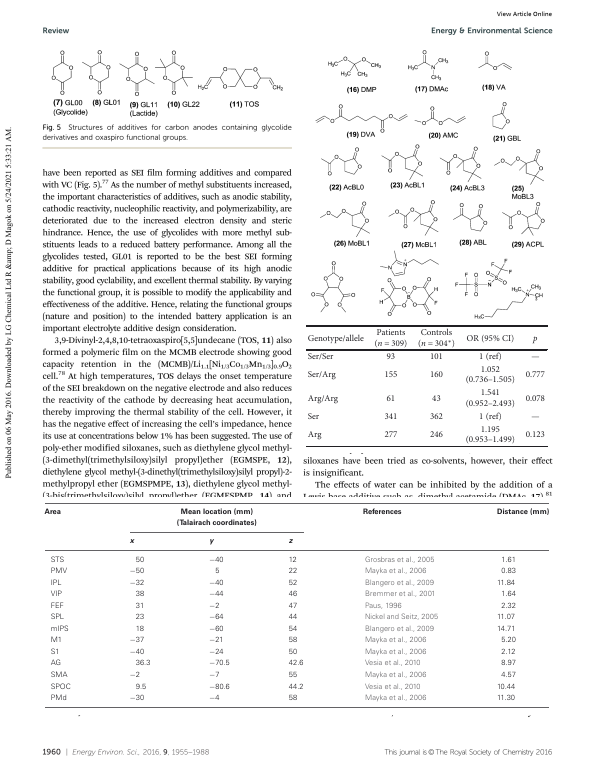borderless: (44, 502, 549, 707), (306, 324, 548, 447)
cell: (176, 508, 258, 528), (464, 365, 515, 386), (464, 388, 515, 409), (464, 425, 515, 446), (417, 328, 456, 349), (373, 328, 408, 349), (364, 613, 439, 622), (364, 591, 436, 600), (364, 556, 435, 565), (364, 579, 435, 588), (364, 625, 435, 634), (306, 333, 364, 344), (364, 648, 427, 657), (364, 671, 427, 680), (364, 694, 427, 703), (465, 333, 515, 344), (364, 660, 421, 669), (364, 683, 421, 692), (364, 568, 427, 576), (364, 637, 427, 645), (496, 508, 550, 516), (306, 393, 339, 404), (364, 602, 403, 611), (362, 508, 403, 516), (306, 370, 336, 380), (306, 352, 334, 362), (478, 352, 502, 362), (478, 412, 502, 422), (524, 393, 545, 404), (524, 430, 545, 441), (524, 370, 545, 380), (208, 660, 231, 669), (208, 683, 231, 692), (50, 683, 72, 692), (496, 579, 516, 588), (496, 613, 516, 622), (50, 625, 70, 634), (496, 625, 516, 634), (496, 683, 516, 692), (496, 694, 516, 703), (306, 430, 322, 441), (383, 430, 398, 441), (429, 430, 444, 441), (50, 671, 68, 680), (50, 694, 68, 703), (208, 556, 225, 565), (500, 556, 517, 565), (208, 579, 225, 588), (208, 591, 225, 600), (500, 591, 517, 600), (500, 602, 517, 611), (208, 613, 225, 622), (208, 625, 225, 634), (208, 637, 225, 646), (208, 648, 225, 657), (500, 660, 517, 669), (500, 671, 517, 680), (43, 508, 62, 516), (429, 352, 444, 362), (383, 370, 398, 380), (429, 370, 444, 380), (383, 412, 398, 422), (429, 412, 444, 422), (50, 568, 68, 576), (129, 579, 145, 588), (129, 637, 145, 646), (129, 648, 145, 657), (500, 648, 516, 657), (135, 660, 151, 669), (288, 660, 304, 669), (288, 683, 304, 692), (129, 694, 145, 703), (306, 412, 320, 422), (500, 568, 517, 576), (500, 637, 517, 645), (50, 556, 65, 565), (50, 602, 65, 611), (50, 613, 65, 622), (129, 568, 145, 576), (385, 393, 396, 404), (50, 579, 63, 588), (50, 591, 63, 600), (50, 637, 63, 646), (385, 352, 396, 362), (431, 393, 441, 404), (208, 602, 220, 611), (50, 660, 62, 669), (129, 671, 141, 680), (208, 671, 220, 680), (135, 683, 147, 692), (208, 694, 220, 703), (135, 556, 145, 565), (288, 556, 298, 565), (288, 579, 298, 588), (135, 591, 145, 600), (288, 591, 298, 600), (135, 602, 145, 611), (288, 602, 298, 611), (135, 613, 145, 622), (288, 613, 298, 622), (135, 625, 145, 634), (288, 625, 298, 634), (288, 637, 298, 646), (50, 648, 60, 657), (288, 648, 298, 657), (288, 671, 298, 680), (288, 694, 298, 703), (288, 568, 298, 576), (532, 335, 538, 344), (214, 568, 220, 576), (129, 539, 135, 546), (208, 539, 214, 546), (530, 356, 540, 360), (530, 416, 540, 420), (288, 539, 293, 546)
